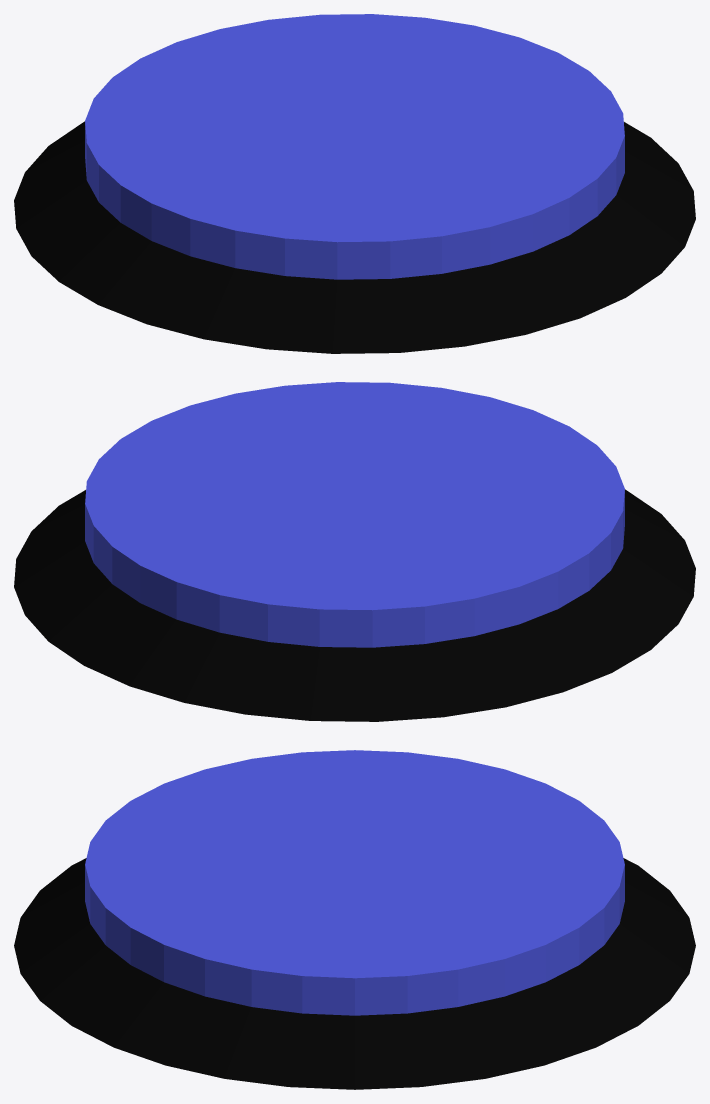
File: spring.fbx
The picture shows the model from 3 angles, top to bottom: view 1: azimuth 30°, elevation 25°; view 2: azimuth 150°, elevation 25°; view 3: azimuth 270°, elevation 25°; orthographic projection.
Parts seen in each view (by area): view 1: Circle; view 2: Circle; view 3: Circle.
Boxes of the visible parts, x1,y1,x2,y2 form: Circle: (14,14,695,353); Circle: (14,382,695,721); Circle: (14,750,695,1089).
Size of the model in its own units: 200 by 26.38 by 200.
